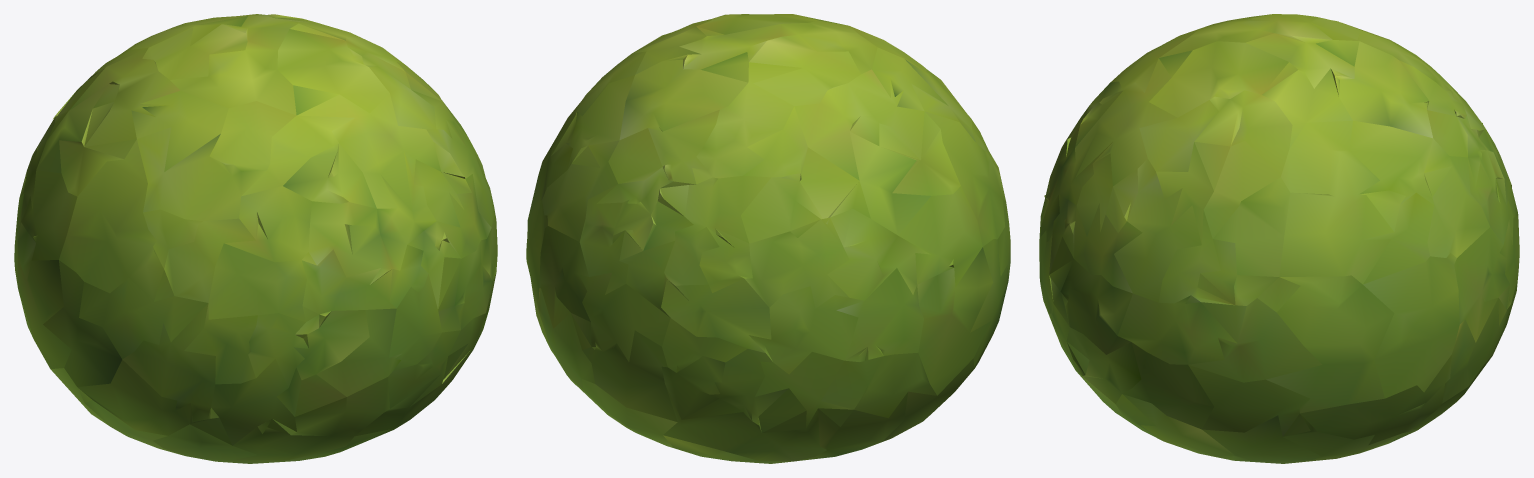
File: topiary_ball.glb
3 views of the same model, side by side, from view 1: azimuth 30°, elevation 25°; view 2: azimuth 150°, elevation 25°; view 3: azimuth 270°, elevation 25° (orthographic).
Visible parts, largest first — view 1: geometry_0; view 2: geometry_0; view 3: geometry_0.
Boxes of the visible parts, left/top/right/bottom form: geometry_0: left=14, top=14, right=497, bottom=463; geometry_0: left=526, top=14, right=1010, bottom=463; geometry_0: left=1039, top=14, right=1519, bottom=463.
Bounding box in the file's own units: 1.16 × 1 × 1.16.
